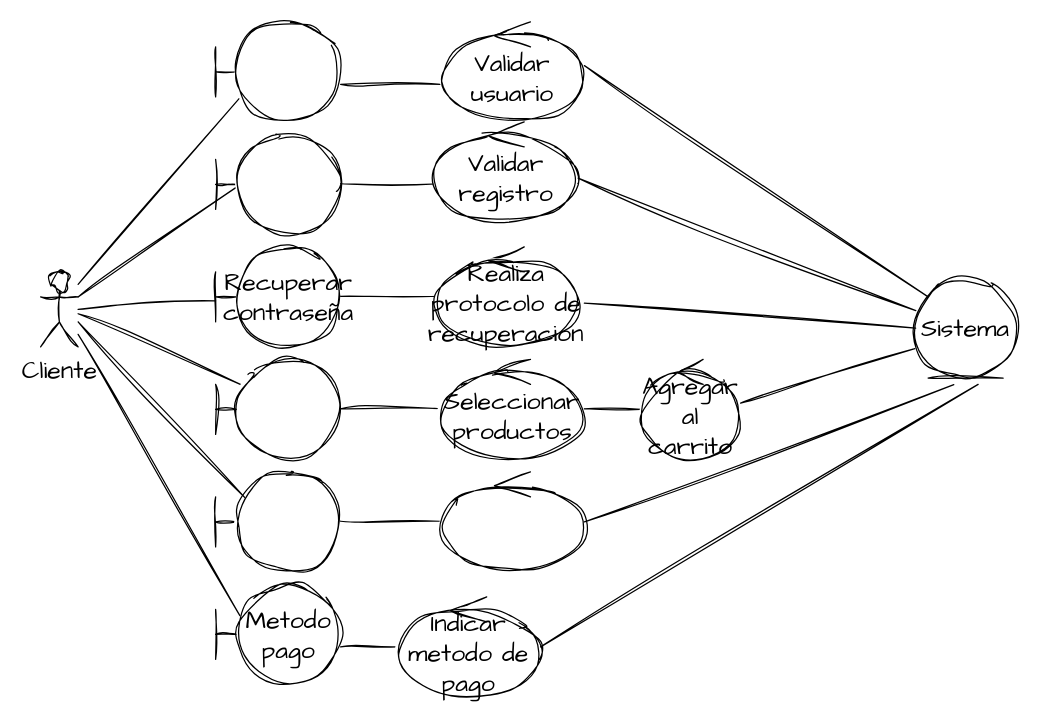
The diagram is 1038 pixels wide and 721 high, and some of its shapes have lost their labels. The centre of each missing label's shape, as x and y in pixels:
"Compras" goes at (277,408).
"Facturas" goes at (277,521).
"Inicio sesion" goes at (277,71).
"Registrar usuario" goes at (277,183).
"Solicitar factura" goes at (511,521).
